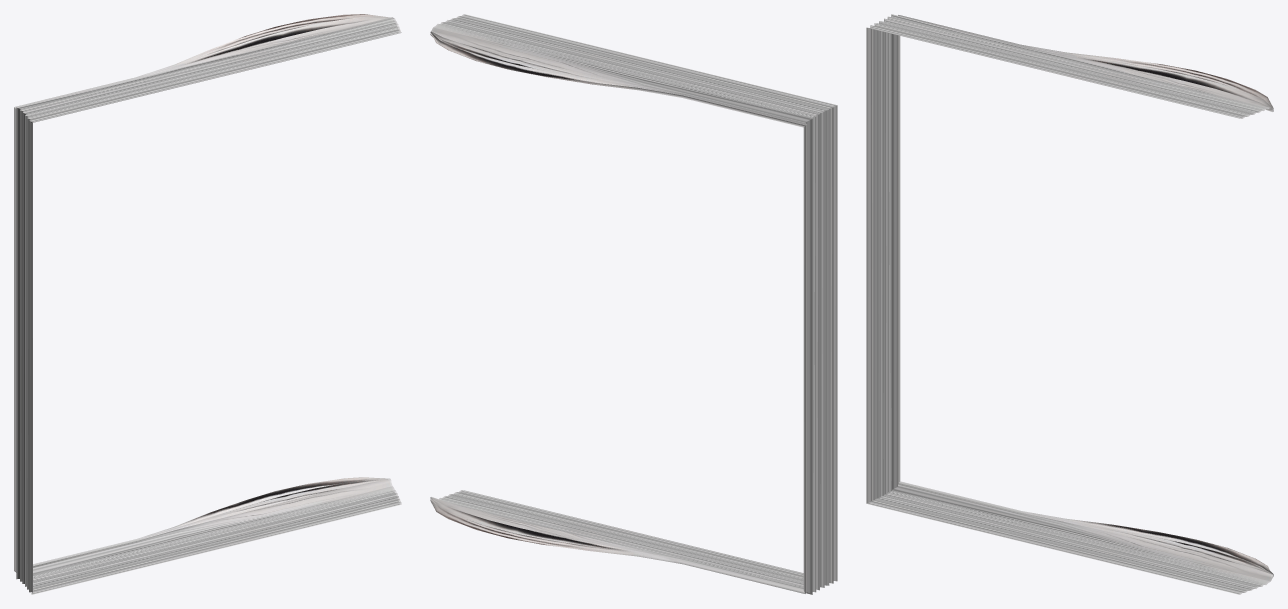
The model's file is MeshBookFront_18_1_GeomSubset_0.obj.
3 views of the same model, side by side, from view 1: azimuth 30°, elevation 25°; view 2: azimuth 150°, elevation 25°; view 3: azimuth 330°, elevation 25° (orthographic).
Parts seen in each view (by area): view 1: MeshBookFront_18_1_GeomSubset_0; view 2: MeshBookFront_18_1_GeomSubset_0; view 3: MeshBookFront_18_1_GeomSubset_0.
Part boxes in pixels (x1,y1,x2,y2): MeshBookFront_18_1_GeomSubset_0: (14,14,401,594); MeshBookFront_18_1_GeomSubset_0: (430,14,837,594); MeshBookFront_18_1_GeomSubset_0: (866,14,1273,594).
Bounding box in the file's own units: 0.2731 × 0.323 × 0.0517.
